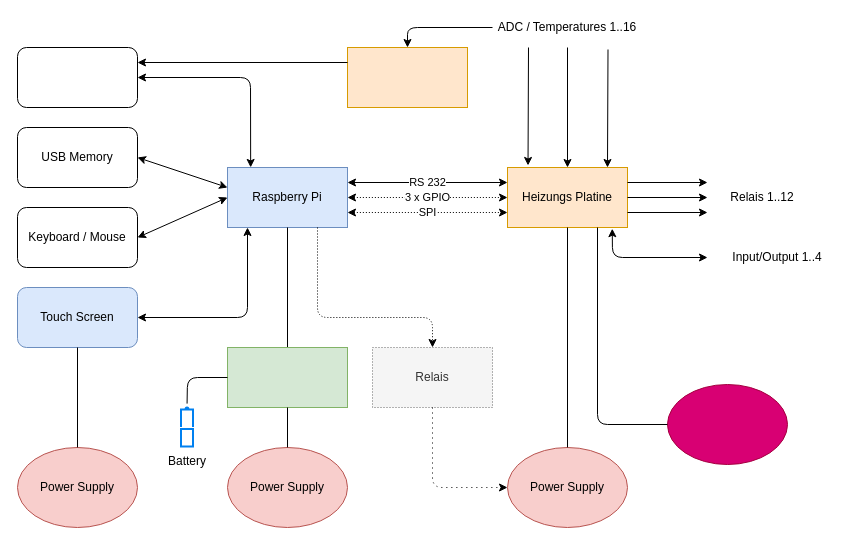
This 855x545 diagram has some shape labels left out. Here are the shapes that lost their labels. From the top down, the centre of each, then its label:
the point at 77,77: LAN
the point at 407,77: ESP32 (HTTP Server)
the point at 287,377: Strom Pi
the point at 727,424: 230 Volt
